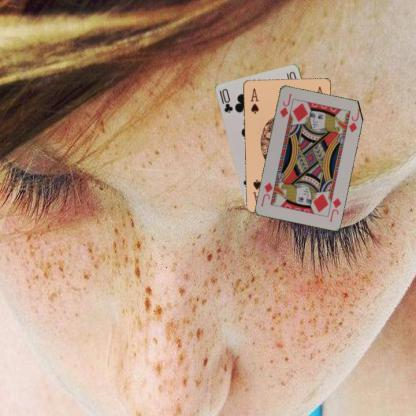10c: (219, 86, 234, 114)
As: (248, 86, 260, 115)
Jd: (326, 194, 342, 224), (277, 90, 293, 118)
